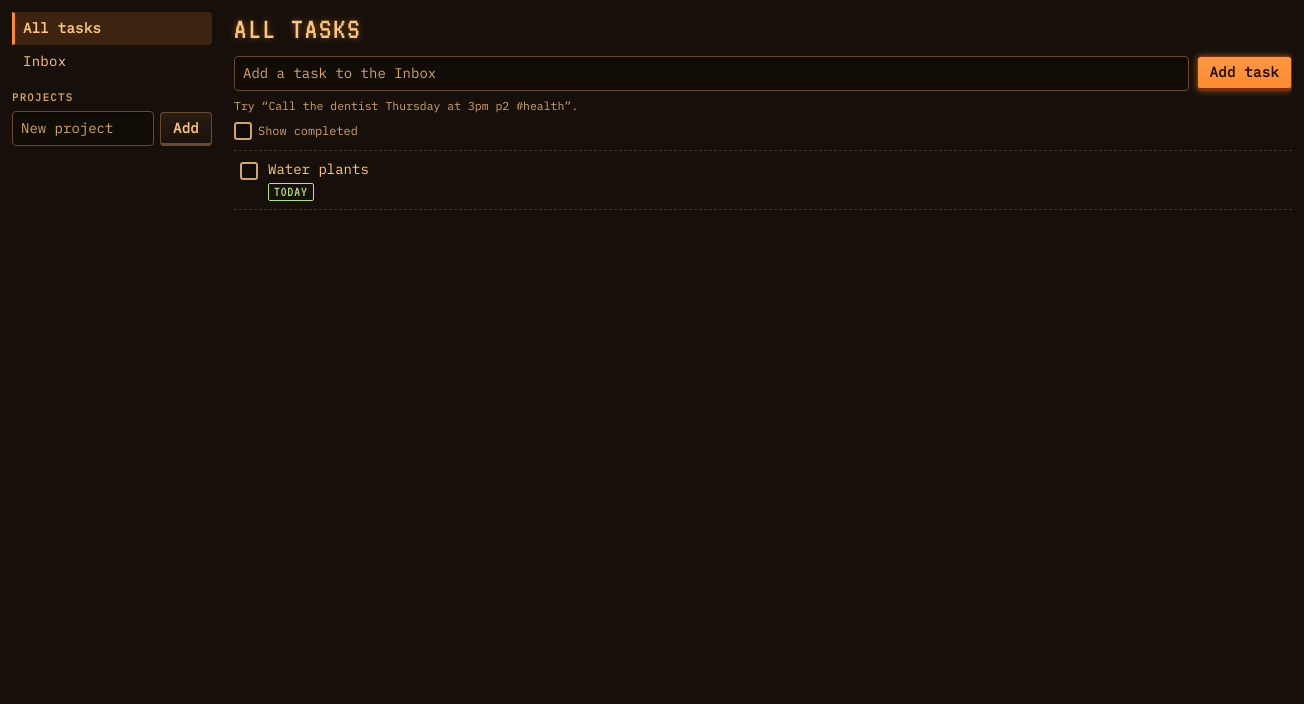
TasksView › makes a task repeat, and completing it schedules the next one
The width and height of the screenshot is (1304, 704).
Click the button "Water plants" at [318, 170], box top-left (268, 159), bottom-right (369, 180)
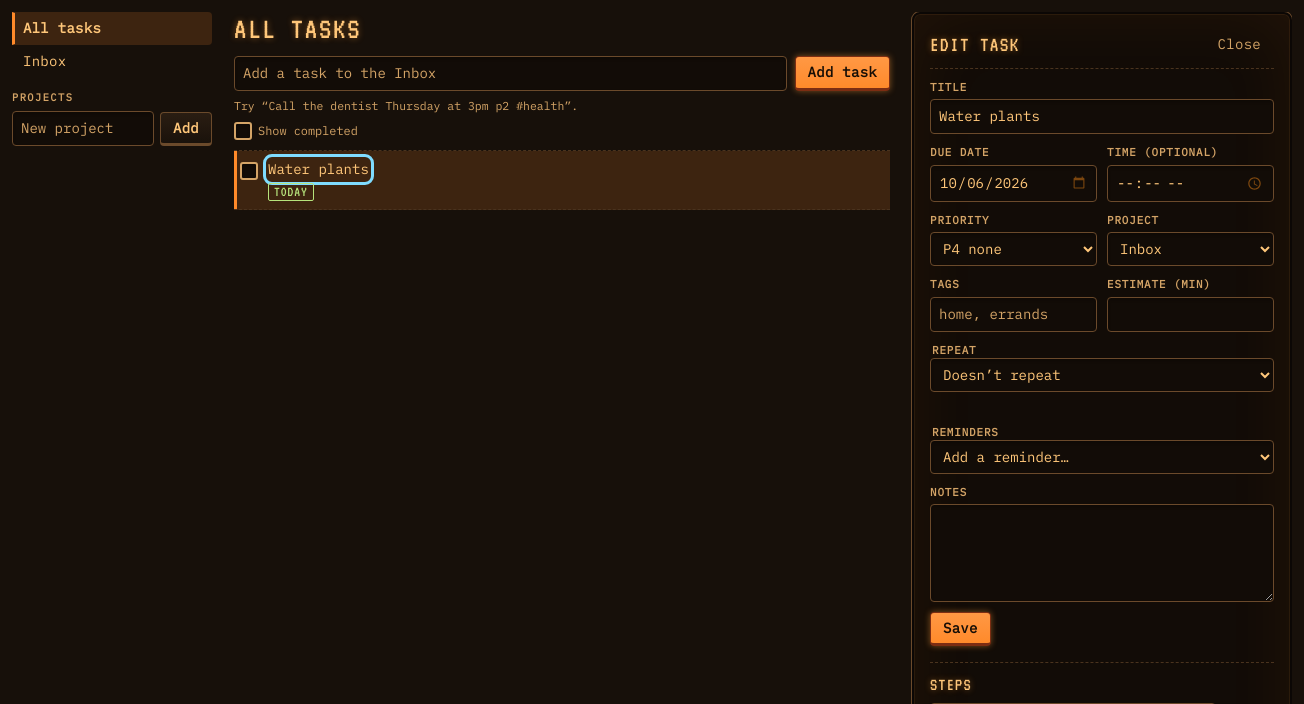
Select "Every week" in the dropdown named "Repeat" below "Repeat" at [1102, 375], box top-left (930, 358), bottom-right (1274, 392)
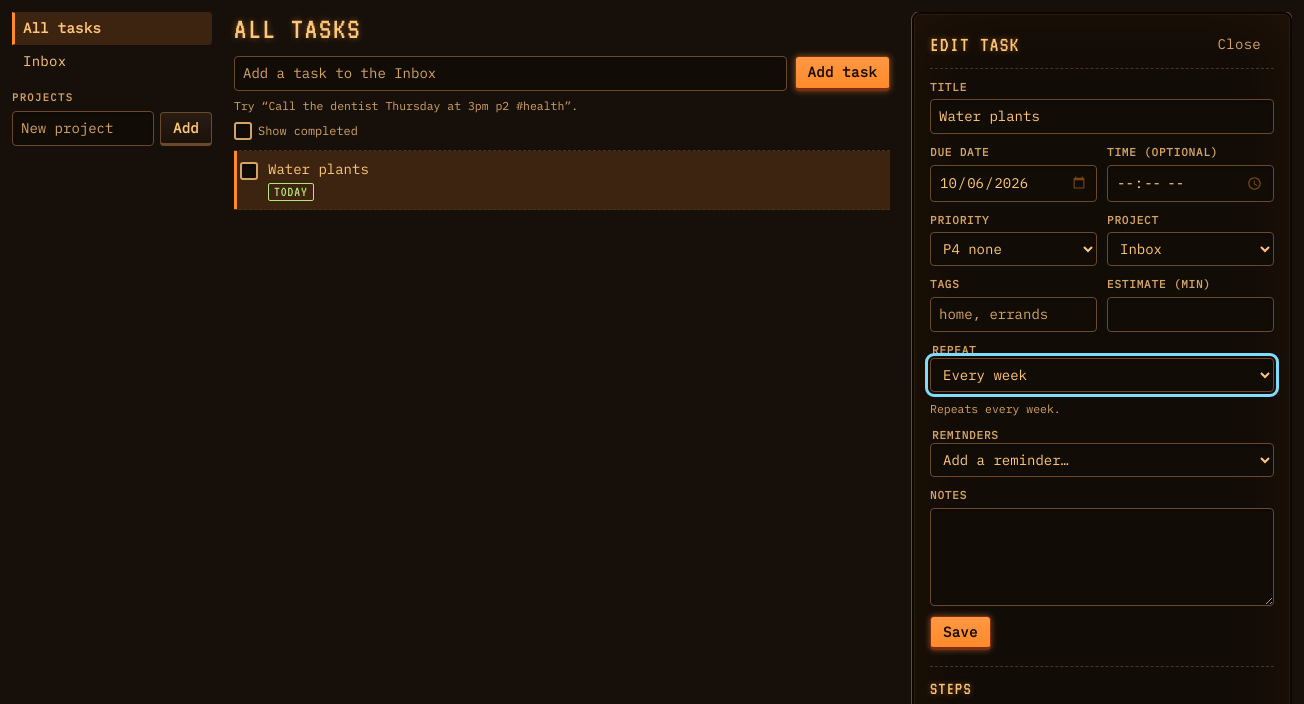
expect the text "Repeats every week." is shown: met, box top-left (930, 401), bottom-right (1061, 416)
Click the button "Save" at [960, 633], box top-left (930, 616), bottom-right (991, 650)
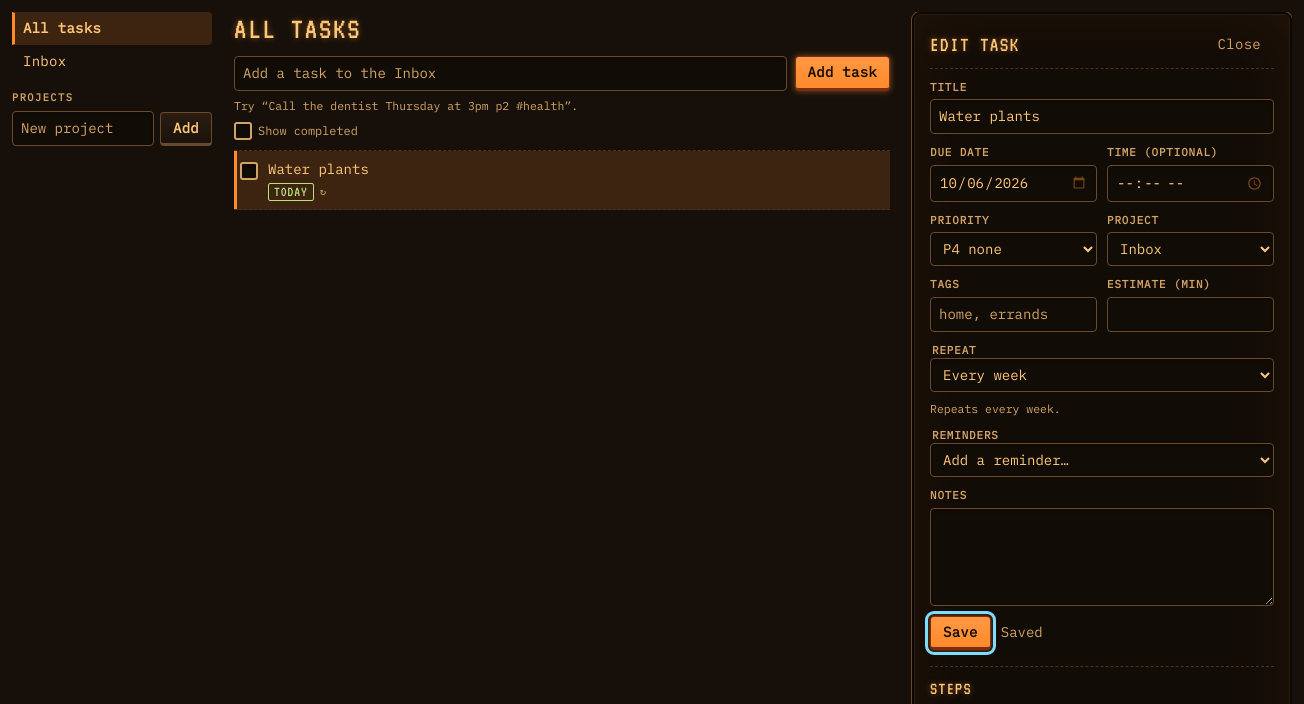
expect the text "Saved" is shown: met, box top-left (1001, 622), bottom-right (1043, 643)
Click the checkbox named "Complete \"Water plants\"" at [249, 171], box top-left (240, 162), bottom-right (258, 180)
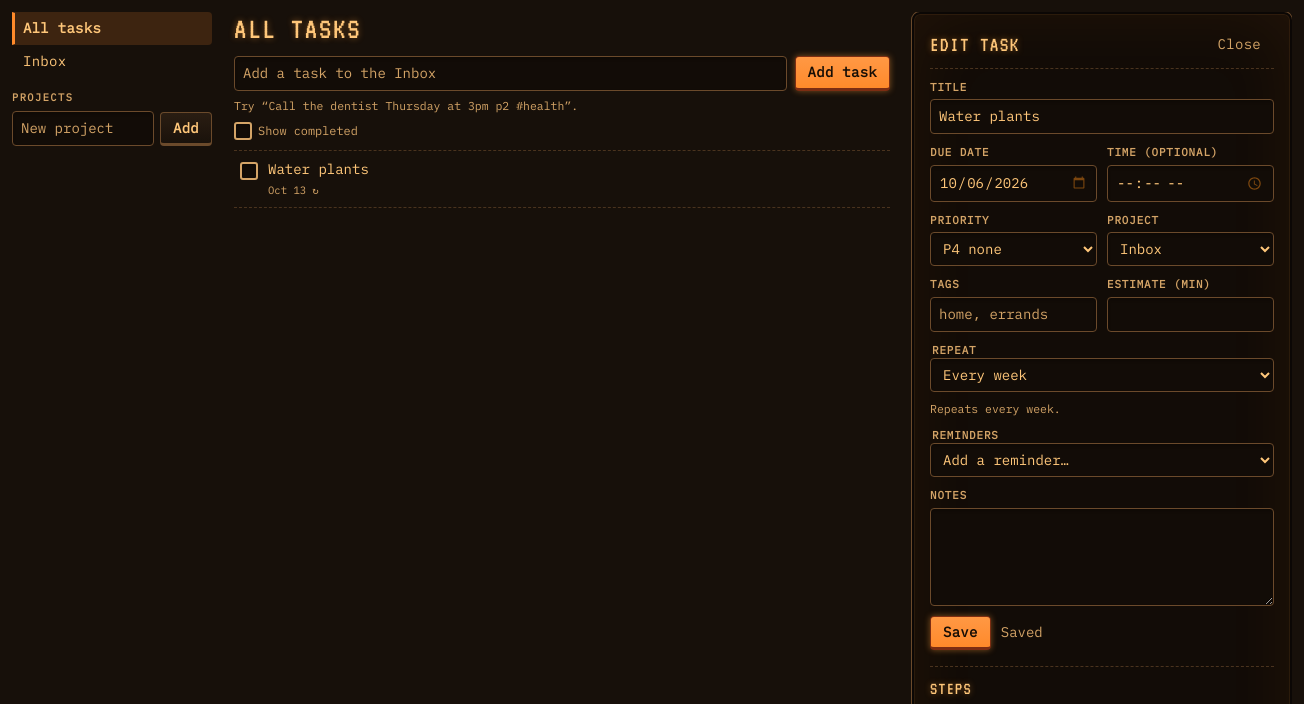
expect the text "Oct 13" is shown: met, box top-left (268, 183), bottom-right (306, 199)
